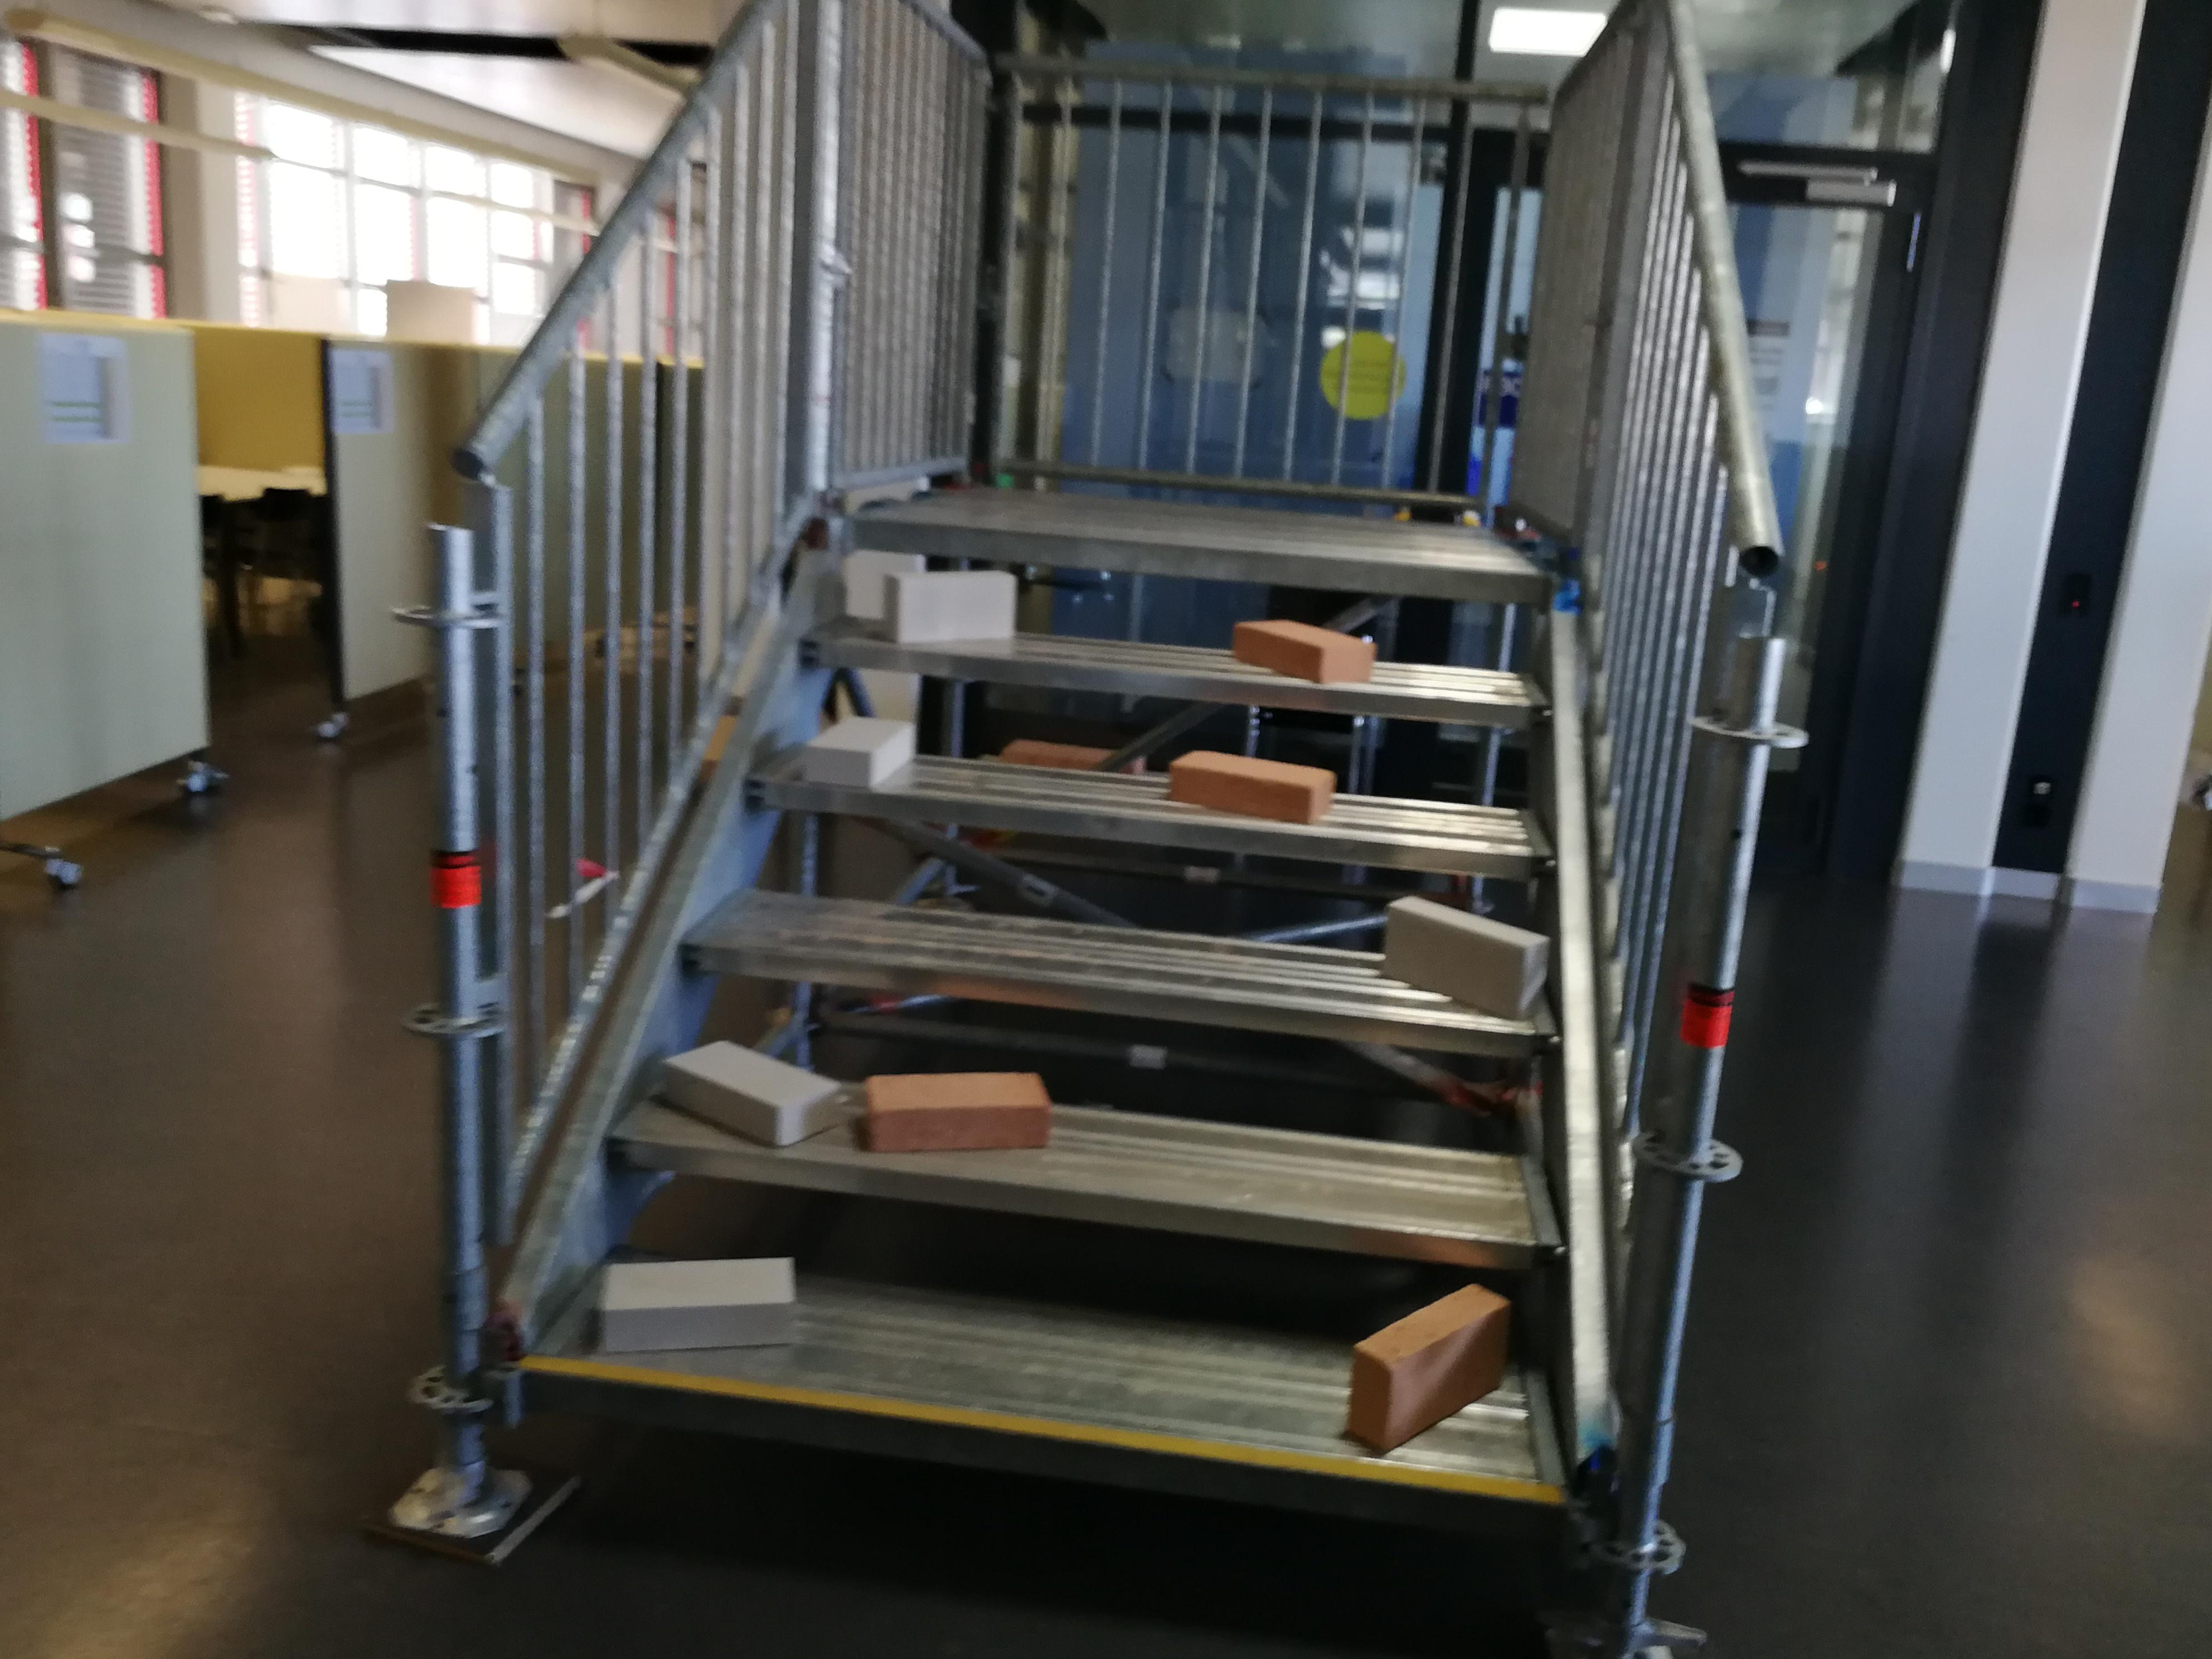brick: (1353, 1283, 1508, 1452), (1386, 892, 1552, 1021), (658, 1037, 841, 1150), (599, 1256, 792, 1349), (866, 1075, 1047, 1154), (1167, 749, 1332, 823), (1231, 617, 1374, 683), (885, 566, 1010, 638), (806, 720, 909, 781)
edge: (524, 1272, 1564, 1544), (606, 1073, 1564, 1324), (679, 896, 1555, 1115), (740, 742, 1559, 958), (801, 603, 1554, 779), (852, 490, 1543, 657)
steps: (512, 464, 1630, 1570)
